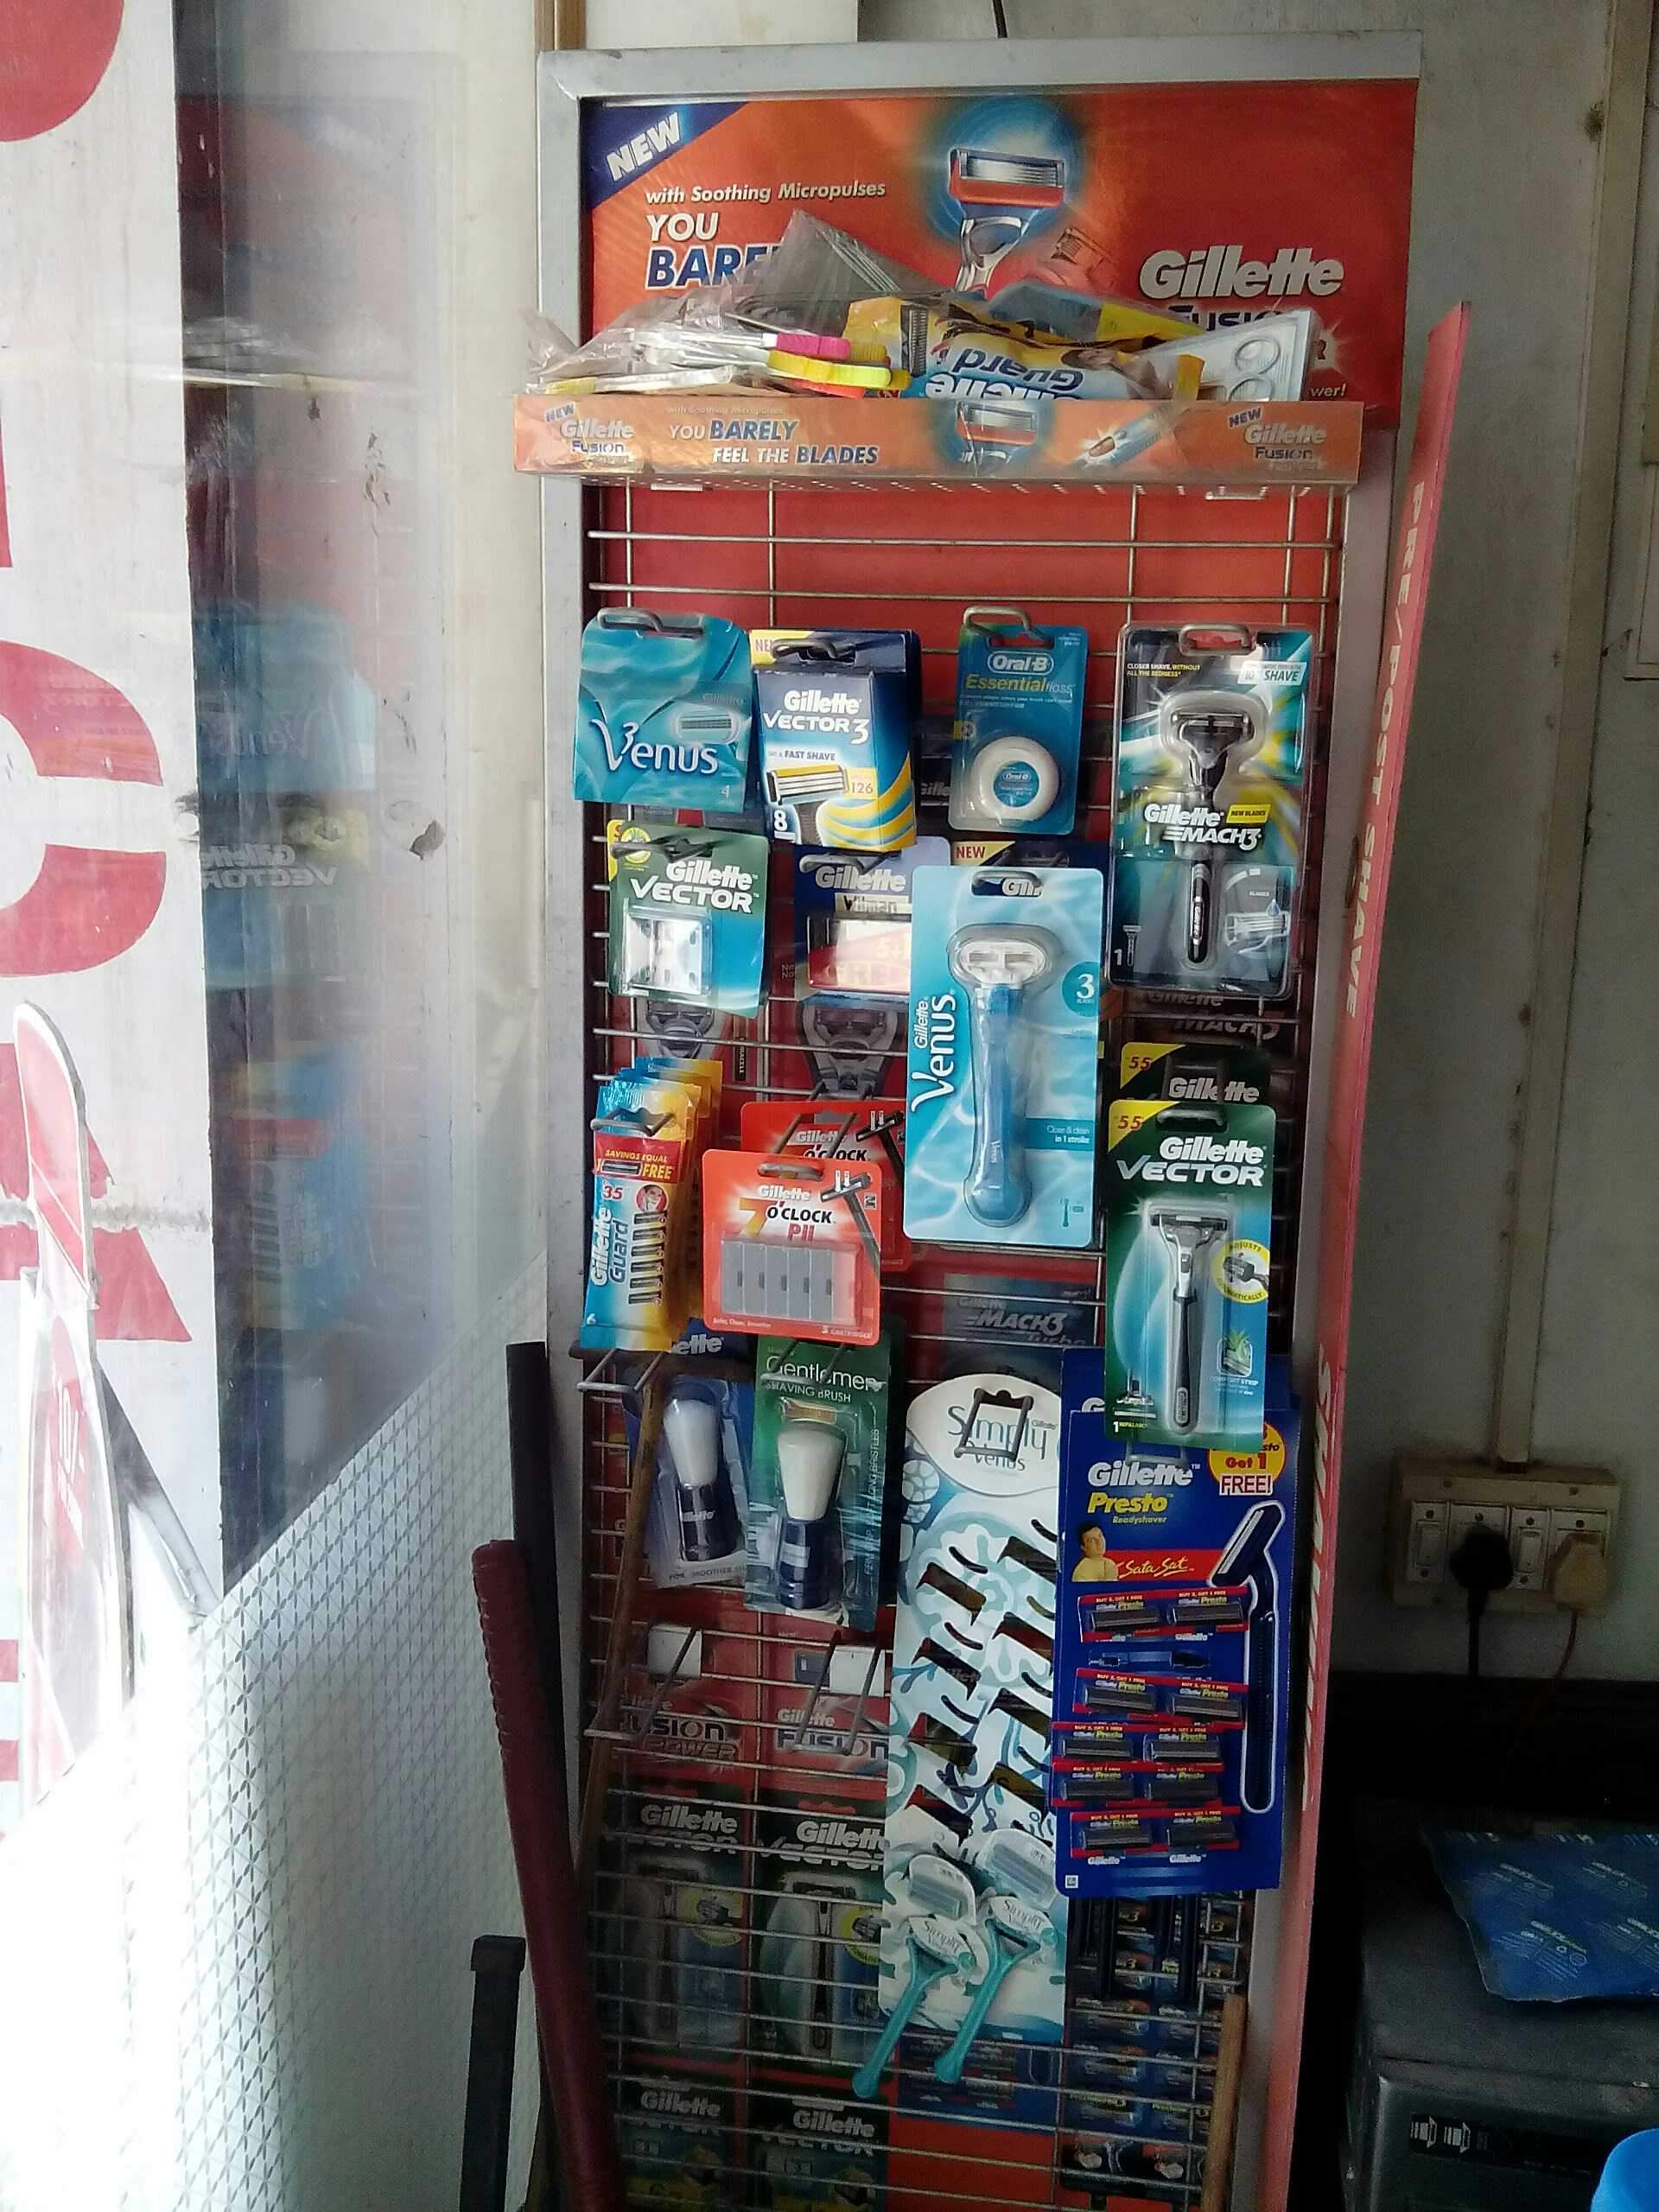beauty: (884, 1432, 1066, 2064), (1073, 1432, 1281, 1881), (901, 874, 1112, 1247), (1126, 639, 1298, 975), (1101, 1099, 1267, 1421), (568, 615, 758, 805), (755, 1359, 873, 1658), (751, 646, 925, 846), (603, 833, 775, 1019), (582, 1148, 690, 1362), (648, 1362, 755, 1573)
